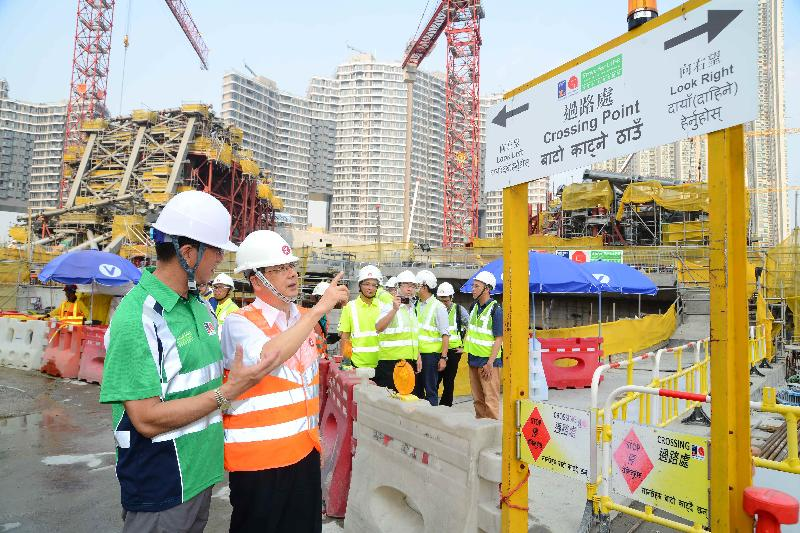epi: (109, 186, 234, 520), (220, 225, 345, 533), (466, 272, 511, 421), (378, 268, 423, 400), (340, 260, 386, 378), (414, 267, 445, 398), (438, 276, 467, 404), (211, 268, 244, 335)
